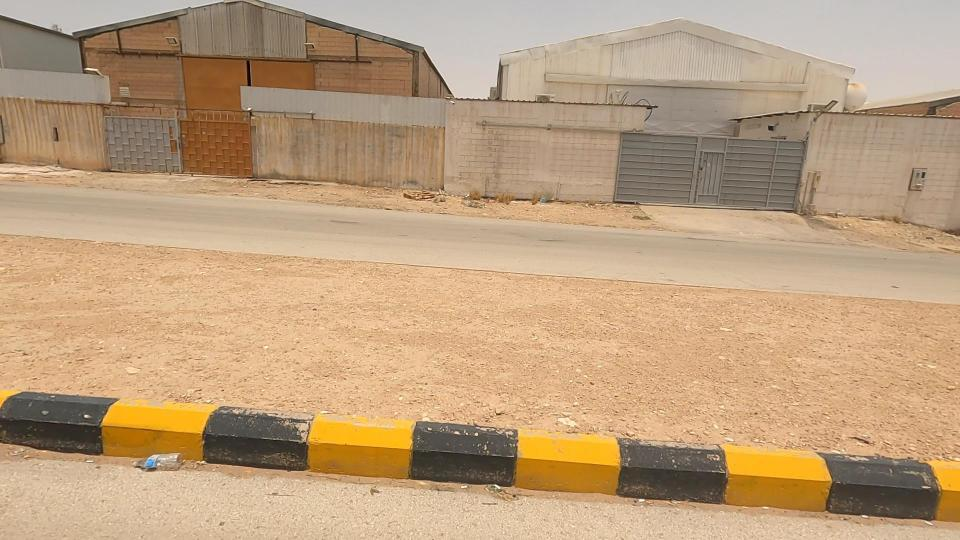CLUTTER_SIDEWALK: (307, 181, 960, 518), (0, 147, 568, 487)
GARBAGE: (59, 410, 242, 506)
